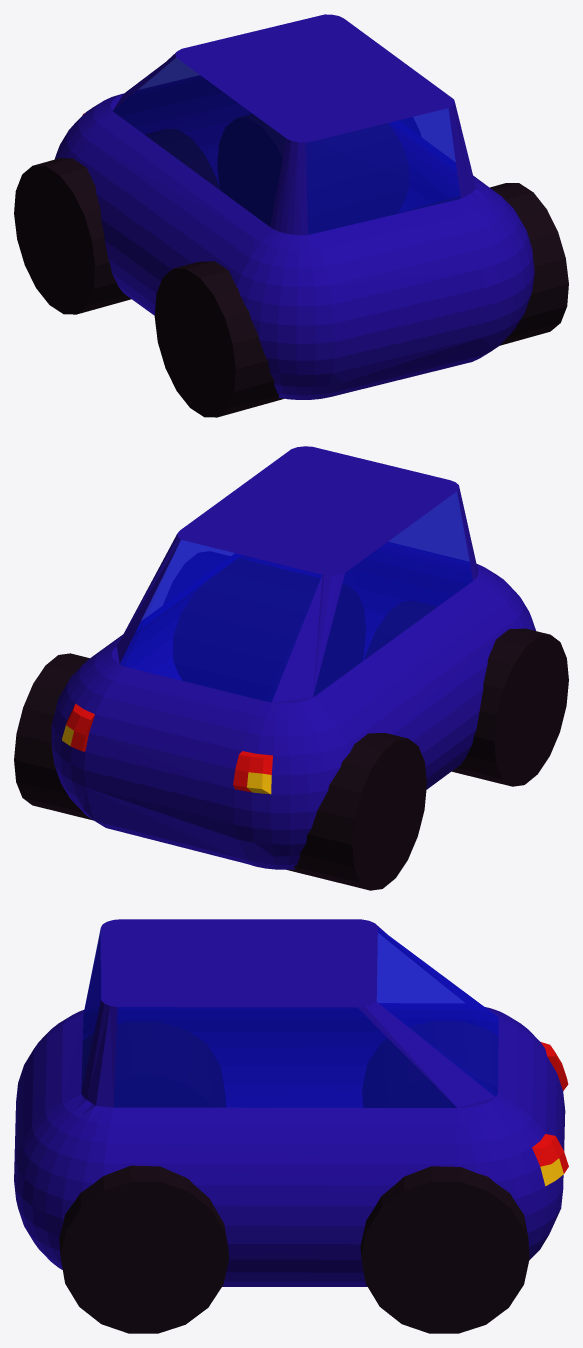
The model's file is carroazul.dae.
3 renders of one model, top to bottom at view 1: azimuth 30°, elevation 25°; view 2: azimuth 150°, elevation 25°; view 3: azimuth 270°, elevation 25°, orthographic. The views are drawn at different scales.
Parts seen in each view (by area): view 1: Sphere; view 2: Sphere; view 3: Sphere.
Part boxes in pixels (x1,y1,x2,y2): Sphere: (14,14,568,417); Sphere: (14,446,568,890); Sphere: (14,919,568,1333).
Size of the model in its own units: 3.96 by 5.16 by 2.9.
